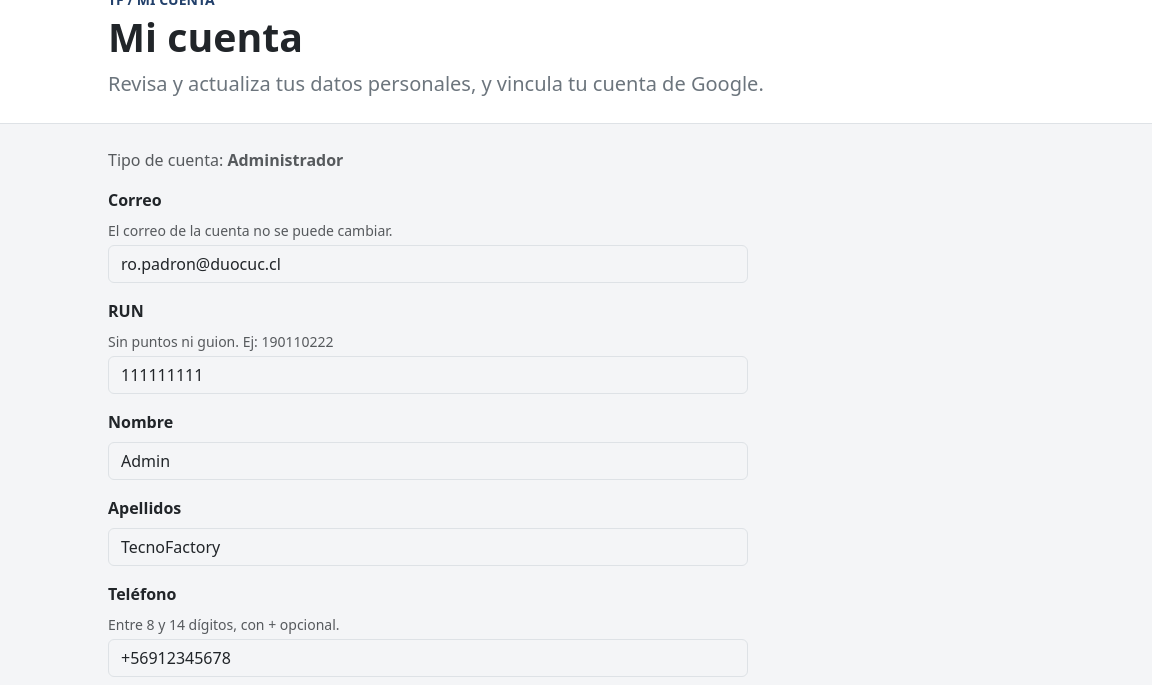
Vista MiCuenta › muestra los datos editables y guarda los cambios con PUT
expect the heading "Mi cuenta" is shown: met, box [108,10,303,64]
expect the text "Administrador" is shown: met, box [227,149,343,171]
Step 1. Replace the text in the field labelled "Nombre" with "Ana" → coordinates (428, 461), box [108,442,748,480]
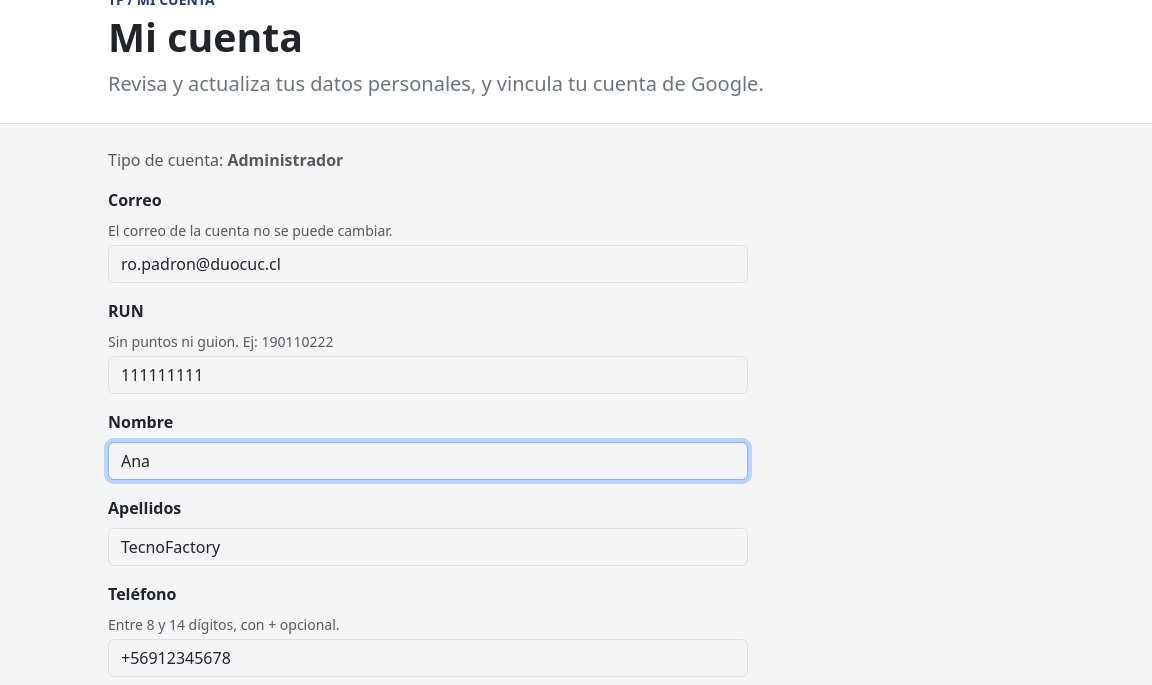
Step 2. Replace the text in the field labelled "Teléfono" with "+56987654321" → coordinates (428, 658), box [108,639,748,677]
(page scrolled)
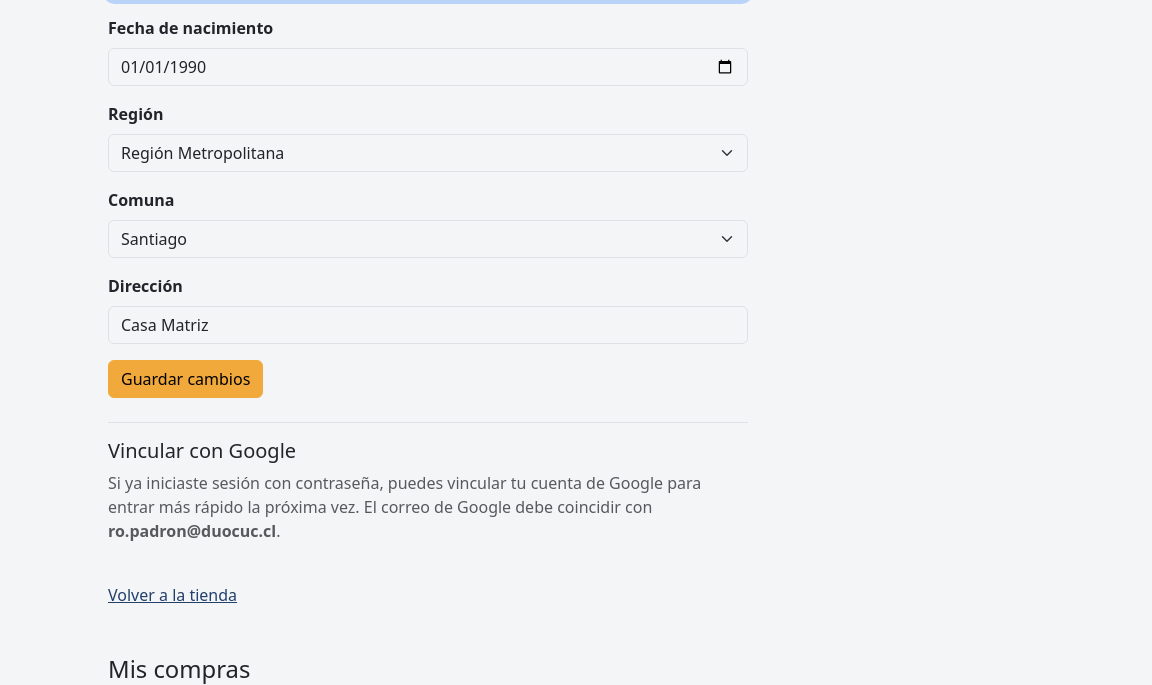
Step 3. Replace the text in the field labelled "Dirección" with "Nueva Casa 123" → coordinates (428, 325), box [108,306,748,344]
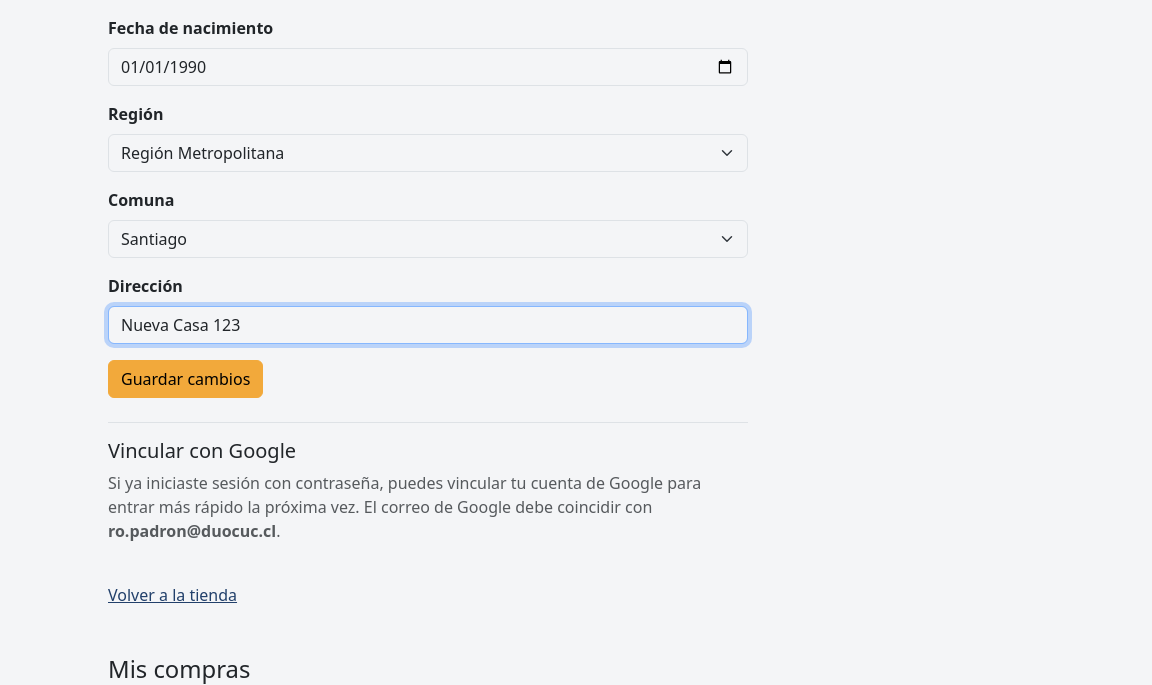
Step 4. Select "Cerrillos" in the dropdown labelled "Comuna" → coordinates (428, 239), box [108,220,748,258]
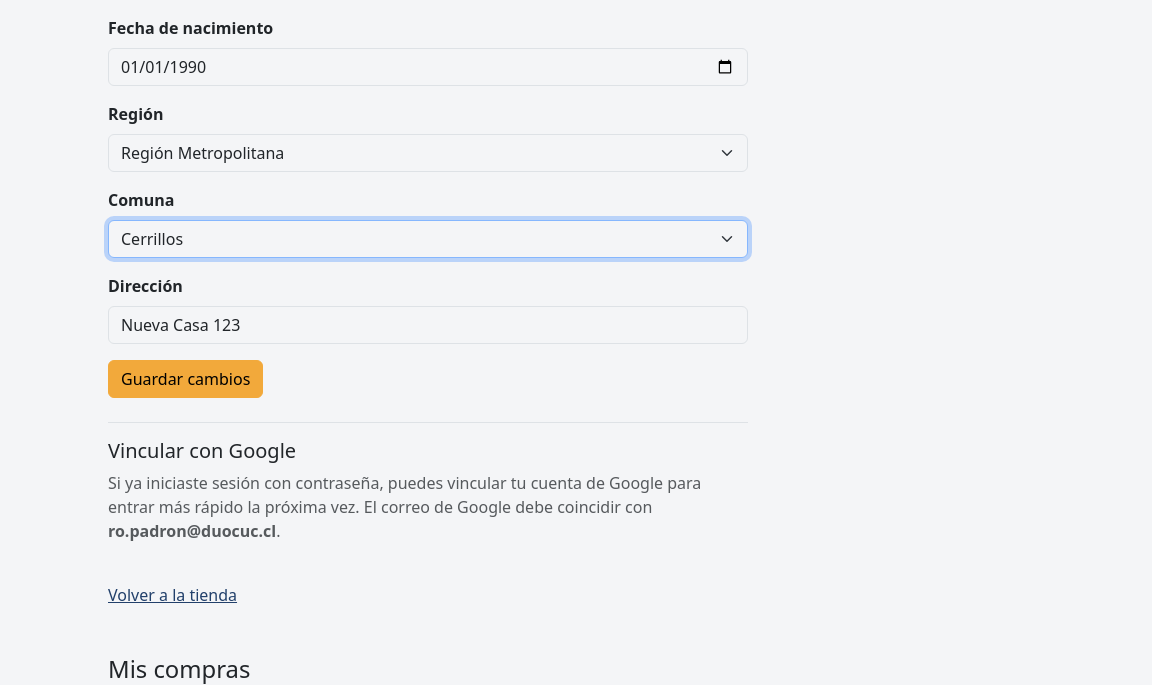
Step 5. Click the button "Guardar cambios" → coordinates (186, 379), box [108,360,263,398]
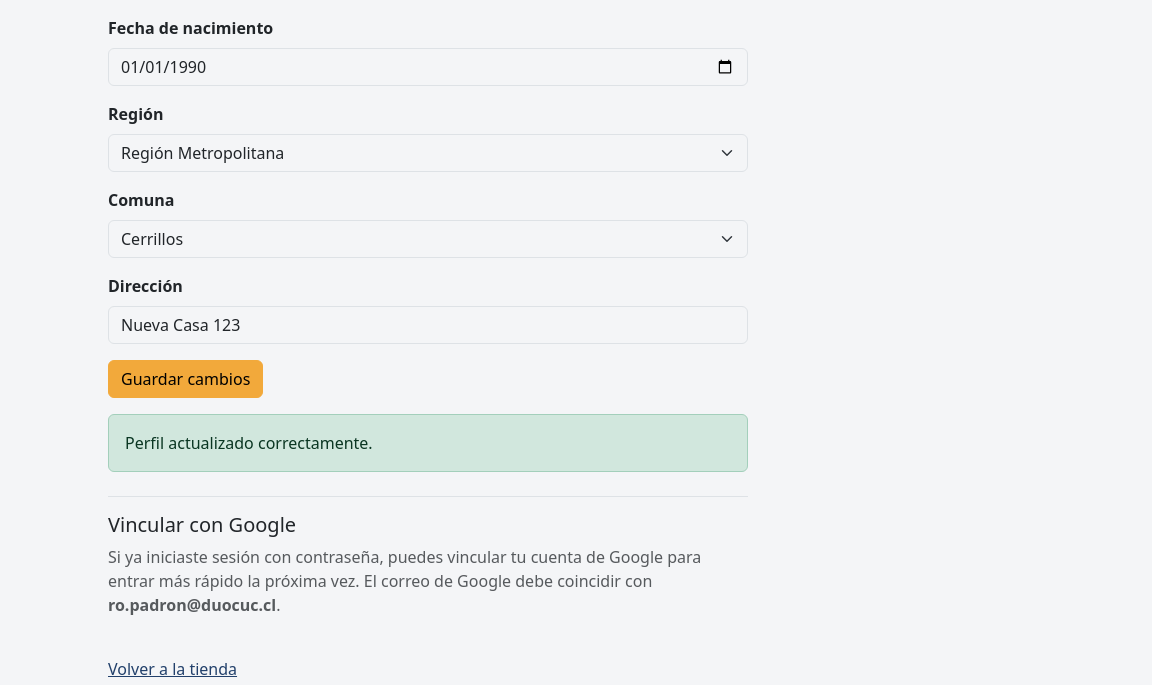
expect the text "Perfil actualizado correctamente." is shown: met, box [108,414,748,472]
